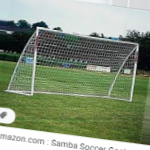goals: (9, 26, 139, 106)
